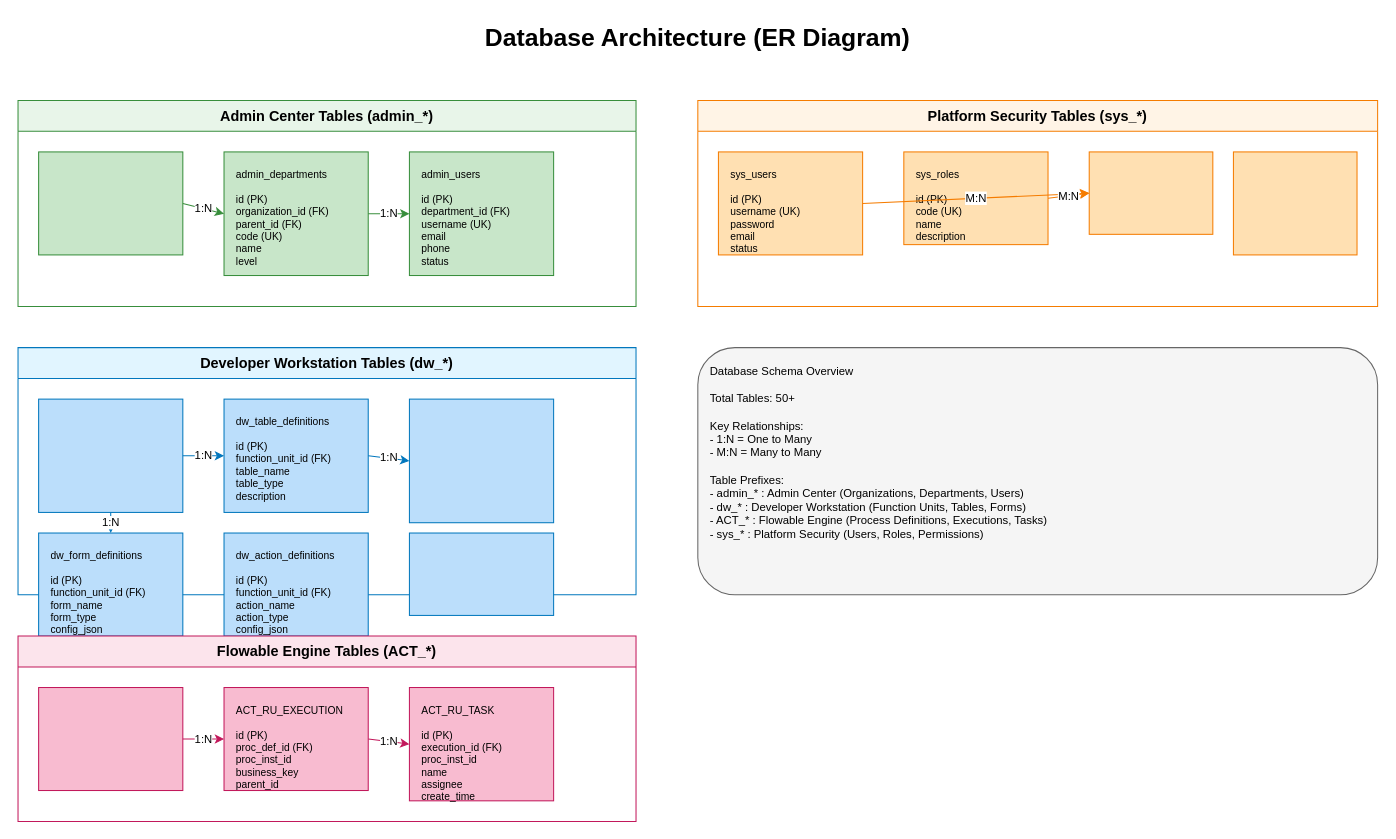
Some shapes in this 1396 by 839 pixel diagram are drawn without their labels. The shapes that lost their labels are listed below. From the top down, each one's centre as x and y in pixels, then its label:
pixel 110 203: admin_organizations id (PK) code (UK) name type
pixel 1150 192: sys_user_roles id (PK) user_id (FK) role_id (FK)
pixel 1294 203: sys_permissions id (PK) code (UK) name resource action
pixel 110 455: dw_function_units id (PK) code (UK) name status icon_id (FK)
pixel 481 460: dw_field_definitions id (PK) table_id (FK) field_name data_type length nullable
pixel 481 573: dw_process_definitions id (PK) function_unit_id (FK) bpmn_xml
pixel 110 738: ACT_RE_PROCDEF id (PK) key name version deployment_id
